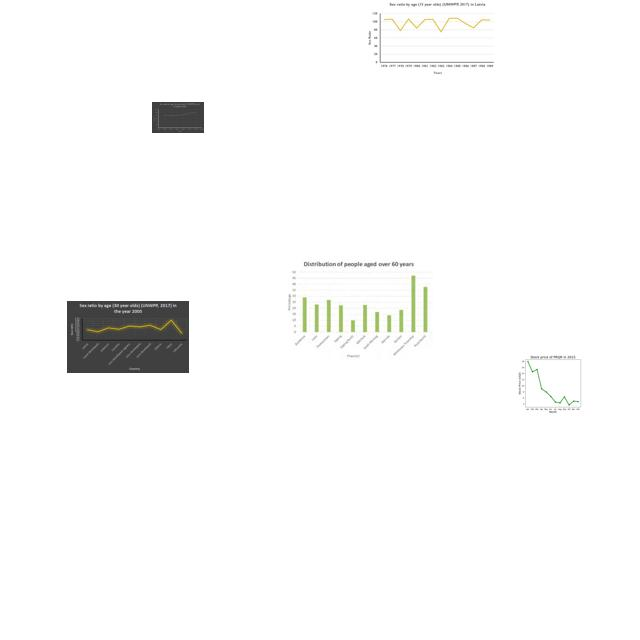Graph: (287, 255, 433, 360), (367, 0, 497, 75), (67, 301, 189, 373), (511, 352, 593, 414), (152, 102, 204, 133)
